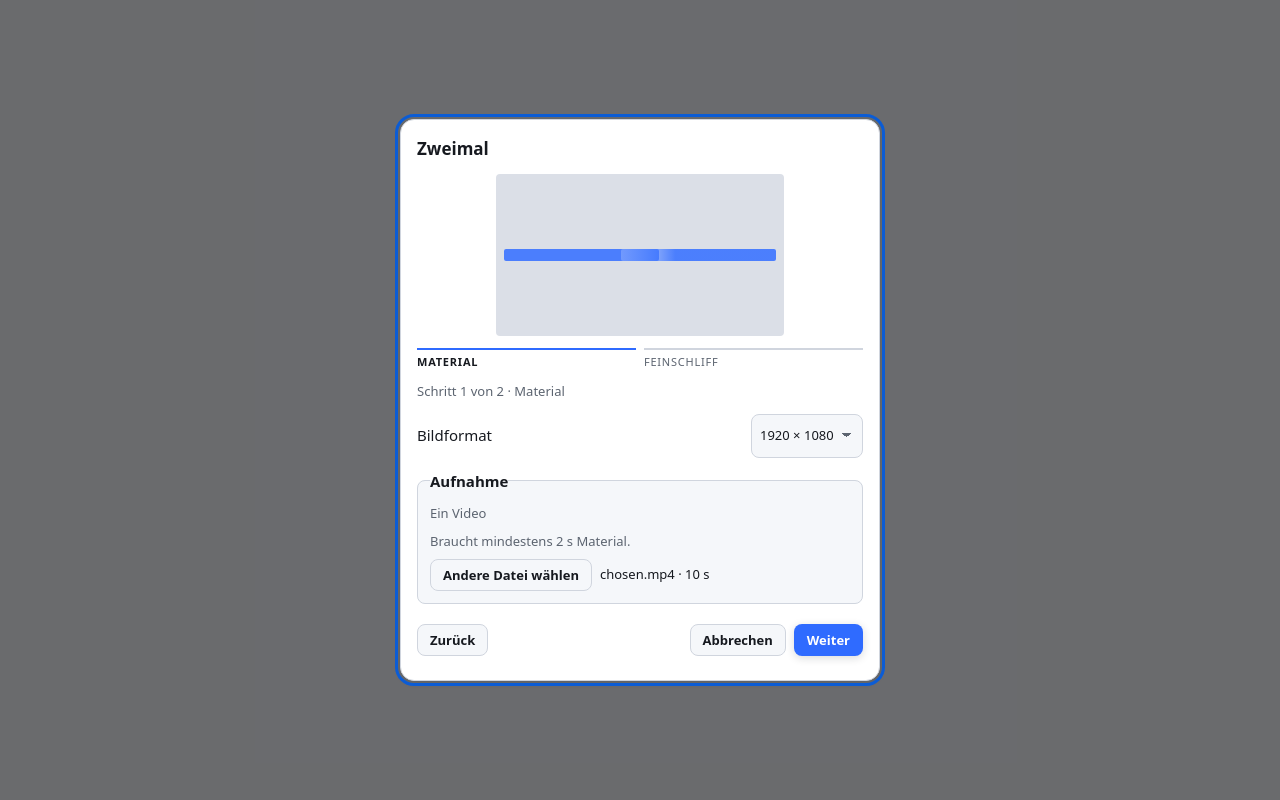
Scenario: TemplateWizard › shows every answer on the last panel, including the ones from earlier steps
Click the button "Weiter" at point(828, 640), box [794,624,863,656]
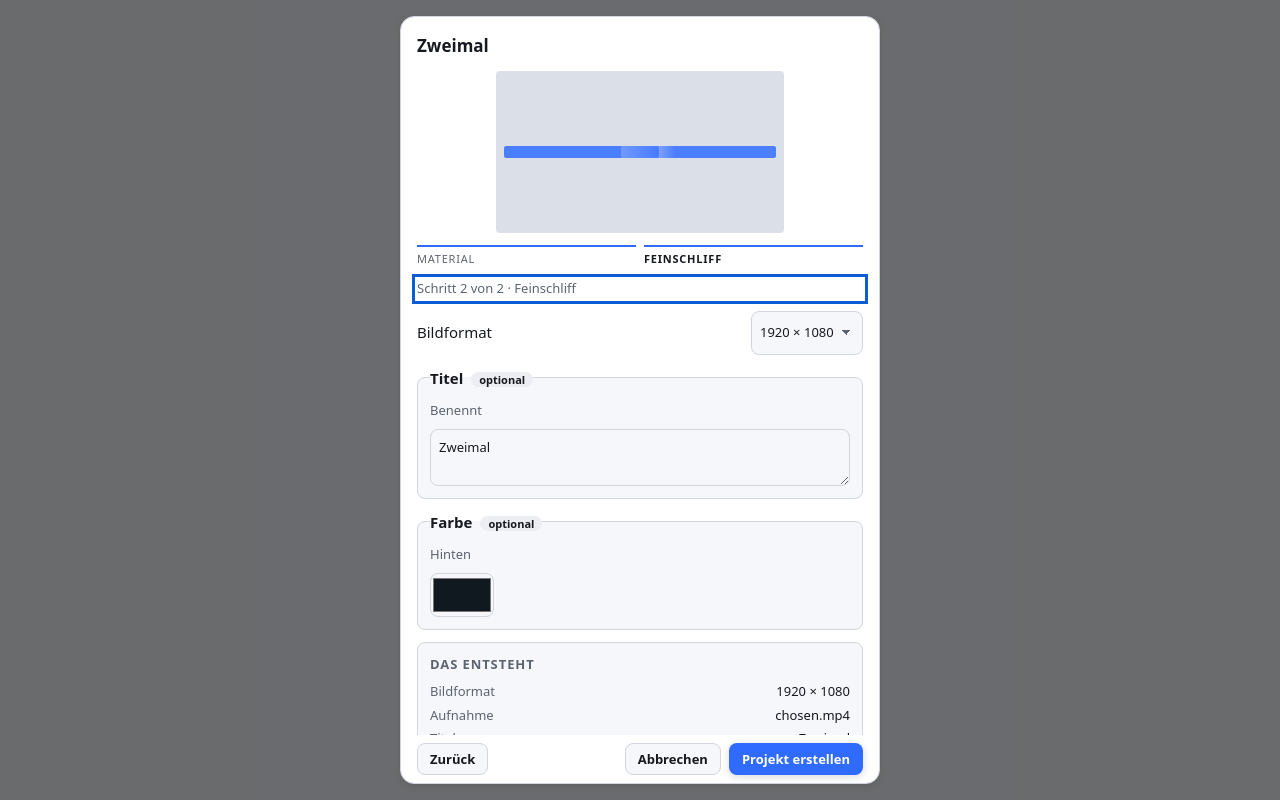
Replace the text in the text box showing "Zweimal" with "Mein Film" at point(640, 457), box [430,428,850,486]
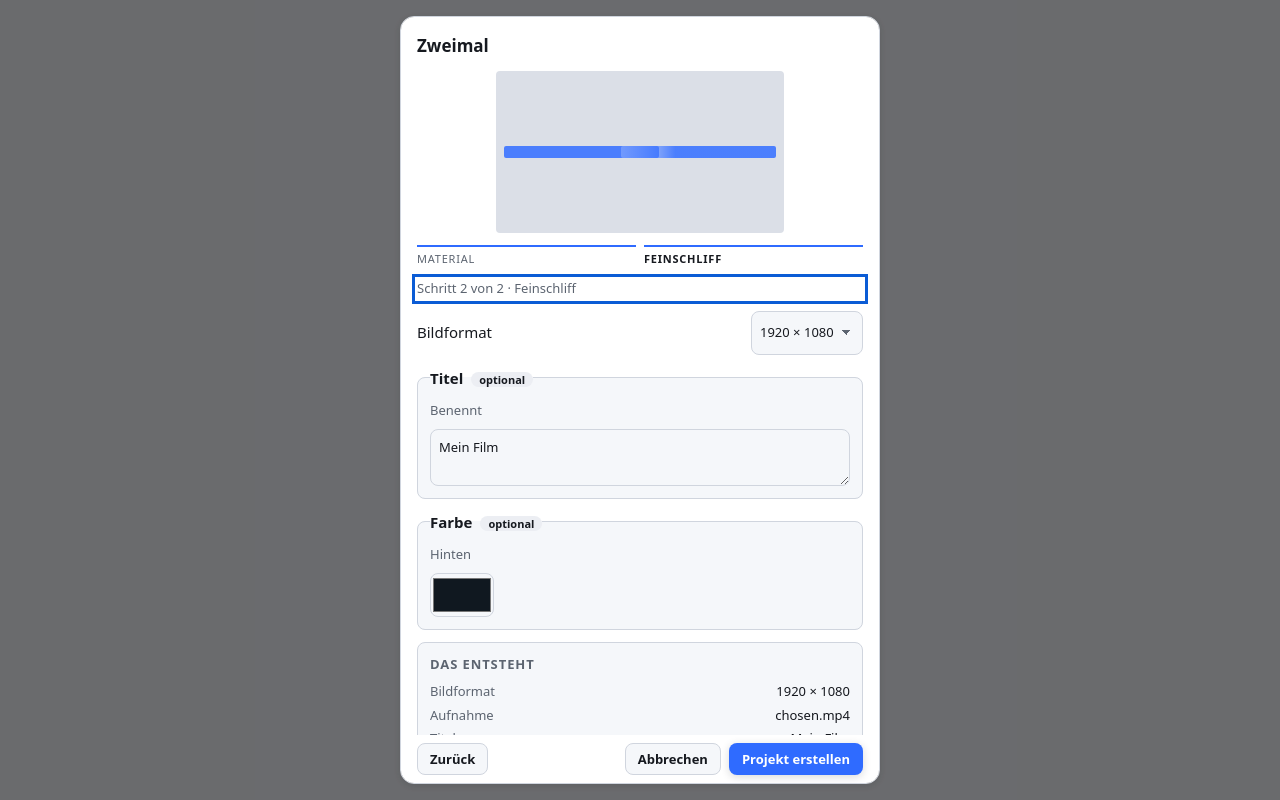
Expected: the element showing "Aufnahme chosen.mp4" is shown, [430,706,850,725]
Expected: the element showing "Farbe #101820" is shown, [430,752,850,772]
Expected: the element showing "Titel Mein Film" is shown, [430,729,850,748]
